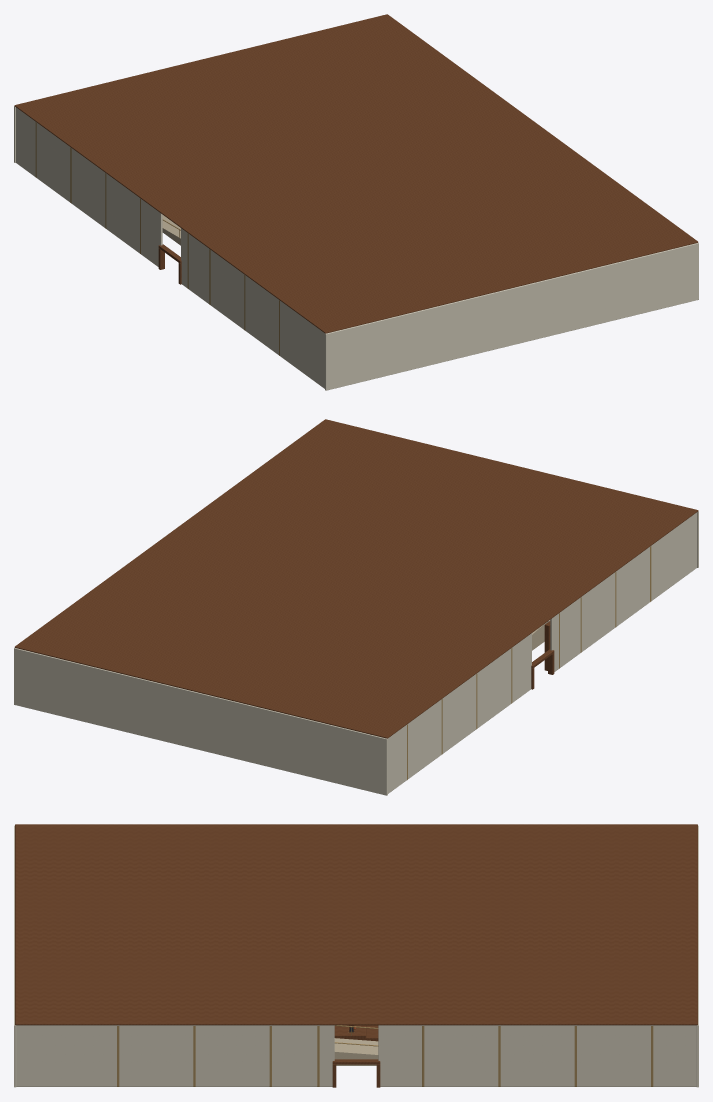
File: SOL_D11_directory_03_source001.glb
The picture shows the model from 3 angles, top to bottom: view 1: azimuth 30°, elevation 25°; view 2: azimuth 150°, elevation 25°; view 3: azimuth 270°, elevation 25°; orthographic projection. The views are drawn at different scales.
Visible parts, largest first — view 1: E_ceiling, E_outer_north, E_outer_west0, E_outer_west1; view 2: E_ceiling, E_outer_south, E_outer_west1, E_outer_west0; view 3: E_ceiling, E_outer_east1, E_outer_east0, E_return_ramp1.
Part boxes in pixels (<box>): E_ceiling: <box>14,14,698,333</box>; E_outer_north: <box>325,243,698,390</box>; E_outer_west0: <box>16,107,162,266</box>; E_outer_west1: <box>181,228,324,388</box>; E_ceiling: <box>14,419,698,738</box>; E_outer_south: <box>14,648,387,795</box>; E_outer_west1: <box>550,512,696,671</box>; E_outer_west0: <box>388,633,531,793</box>; E_ceiling: <box>15,824,697,1025</box>; E_outer_east1: <box>16,1025,334,1086</box>; E_outer_east0: <box>378,1025,696,1086</box>; E_return_ramp1: <box>334,1038,378,1065</box>.
Bounding box in the file's own units: 49.75 × 7.34 × 71.84.
15 materials, 15 textured.
